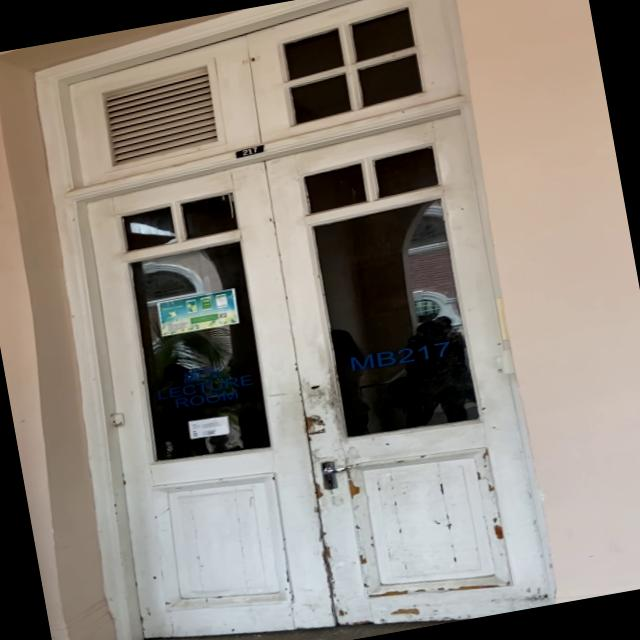room217: (232, 144, 264, 158)
room217Window: (342, 335, 456, 377)
